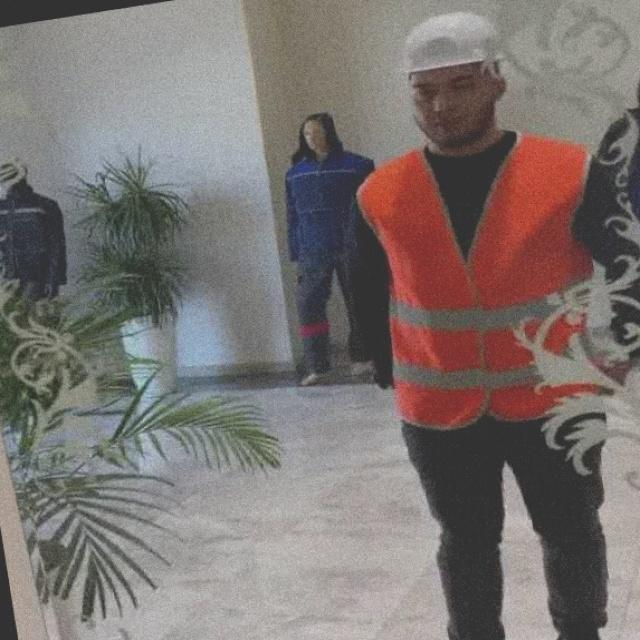helmet: (394, 6, 516, 73)
safety_vest: (358, 131, 610, 438)
